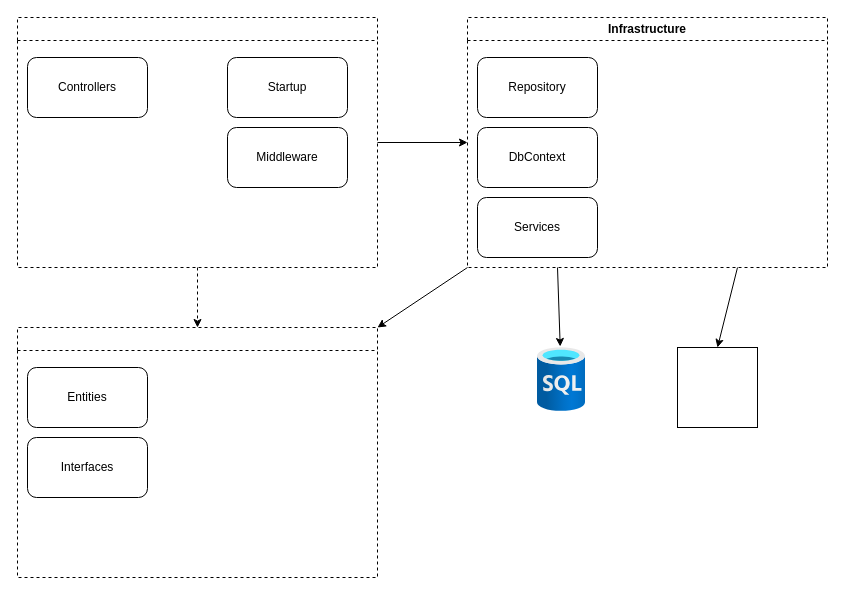
The diagram is 845 pixels wide and 595 high, and some of its shapes have lost their labels. Each missing label, with the box of its shape:
API: (16, 16, 378, 268)
Core: (16, 326, 378, 578)
Stripe: (676, 346, 758, 428)
